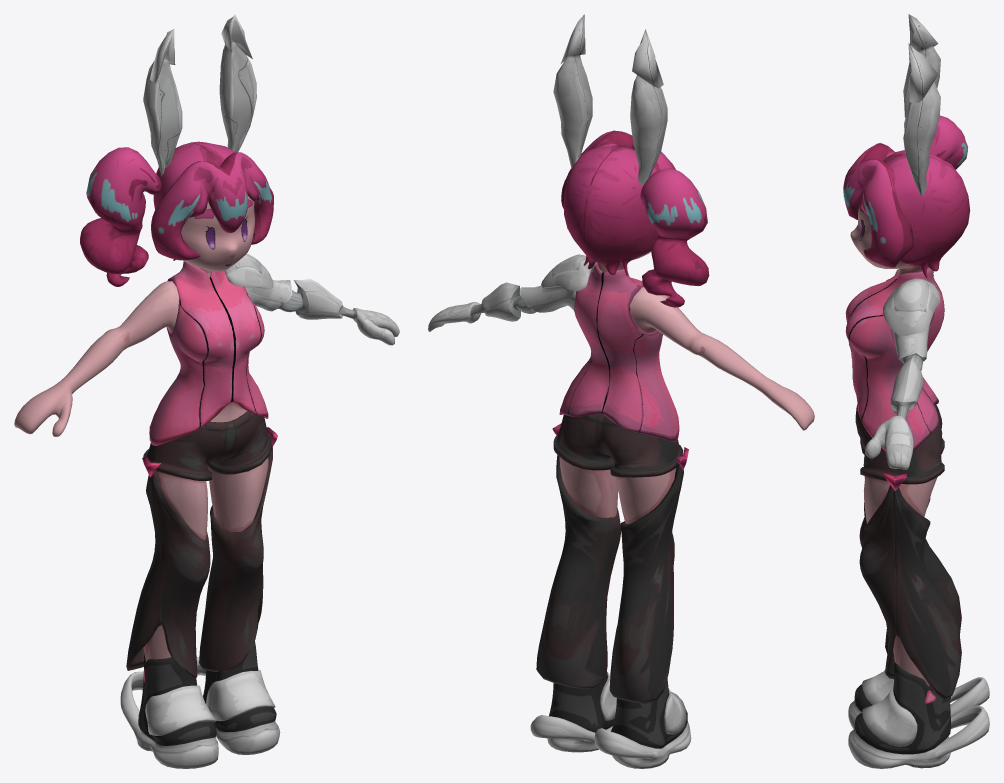
Rendered from CANDY_ver1.2.fbx.
3 renders of one model, left to right at view 1: azimuth 30°, elevation 25°; view 2: azimuth 150°, elevation 25°; view 3: azimuth 270°, elevation 25°, orthographic.
Visible parts, largest first — view 1: 0.3_LEGS_BODY, 0.1_TOP_BODY, 0.0_BODY, 5.0_SHOES, 1_BANGS, 3_HAIR_2, 4_EARS, 0.5_R_ARM, 0.2_BOTTOM_BODY, 0.6_L_ARM, 5.1_SHOES, 2_HAIR_1; view 2: 0.3_LEGS_BODY, 0.1_TOP_BODY, 2_HAIR_1, 5.0_SHOES, 4_EARS, 3_HAIR_2, 0.2_BOTTOM_BODY, 0.5_R_ARM, 0.6_L_ARM, 0.0_BODY, 5.1_SHOES, 1_BANGS; view 3: 0.3_LEGS_BODY, 5.0_SHOES, 0.1_TOP_BODY, 0.6_L_ARM, 2_HAIR_1, 1_BANGS, 4_EARS, 0.0_BODY, 5.1_SHOES, 0.2_BOTTOM_BODY, 3_HAIR_2.
Part boxes in pixels (x1,y1,x2,y2): 0.3_LEGS_BODY: (126,446,272,678); 0.1_TOP_BODY: (149,261,268,445); 0.0_BODY: (143,196,268,661); 5.0_SHOES: (120,641,280,768); 1_BANGS: (151,152,273,260); 3_HAIR_2: (80,147,161,286); 4_EARS: (143,14,256,176); 0.5_R_ARM: (14,281,179,436); 0.2_BOTTOM_BODY: (143,411,272,480); 0.6_L_ARM: (224,253,399,345); 5.1_SHOES: (145,670,275,735); 2_HAIR_1: (153,141,234,260); 0.3_LEGS_BODY: (536,455,683,703); 0.1_TOP_BODY: (559,263,679,442); 2_HAIR_1: (563,145,658,275); 5.0_SHOES: (530,671,691,768); 4_EARS: (553,14,667,185); 3_HAIR_2: (640,168,709,307); 0.2_BOTTOM_BODY: (553,414,683,477); 0.5_R_ARM: (630,287,814,430); 0.6_L_ARM: (428,254,596,331); 0.0_BODY: (559,251,675,523); 5.1_SHOES: (600,672,686,734); 1_BANGS: (561,130,675,208); 0.3_LEGS_BODY: (859,485,961,699); 5.0_SHOES: (848,662,989,768); 0.1_TOP_BODY: (845,268,944,452); 0.6_L_ARM: (865,278,940,469); 2_HAIR_1: (883,150,970,277); 1_BANGS: (843,143,913,267); 4_EARS: (903,14,940,196); 0.0_BODY: (850,203,937,685); 5.1_SHOES: (862,670,917,746); 0.2_BOTTOM_BODY: (855,404,944,484); 3_HAIR_2: (929,115,967,169).
Bounding box in the file's own units: 87.18 × 158 × 29.53.
7 materials, 7 textured.
